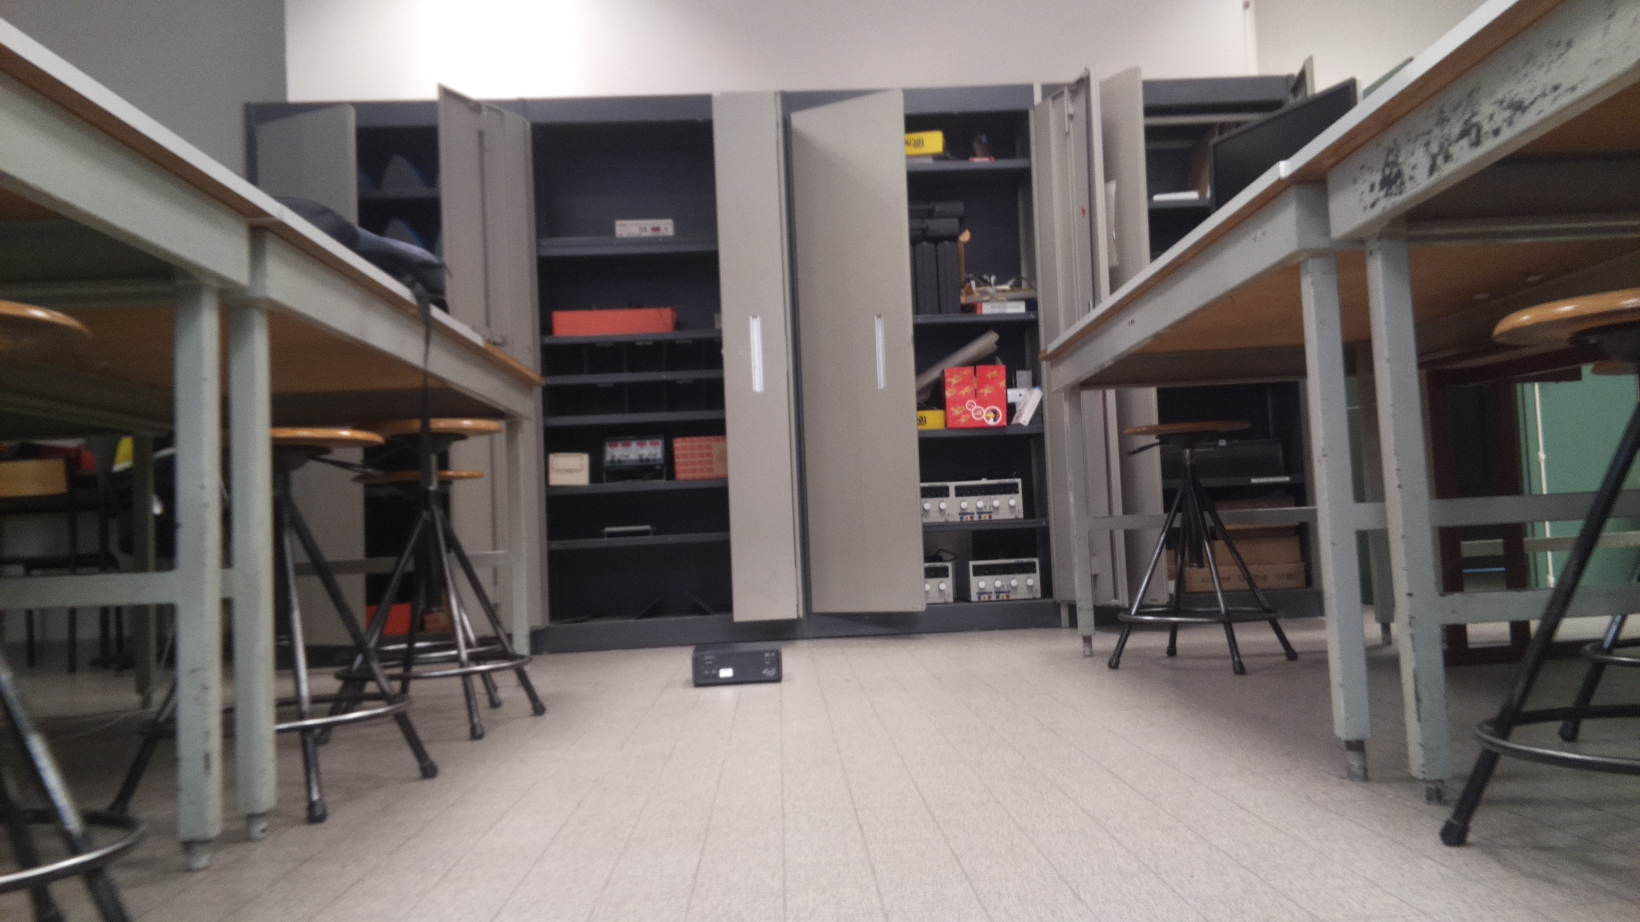medium: (690, 641, 786, 687)
